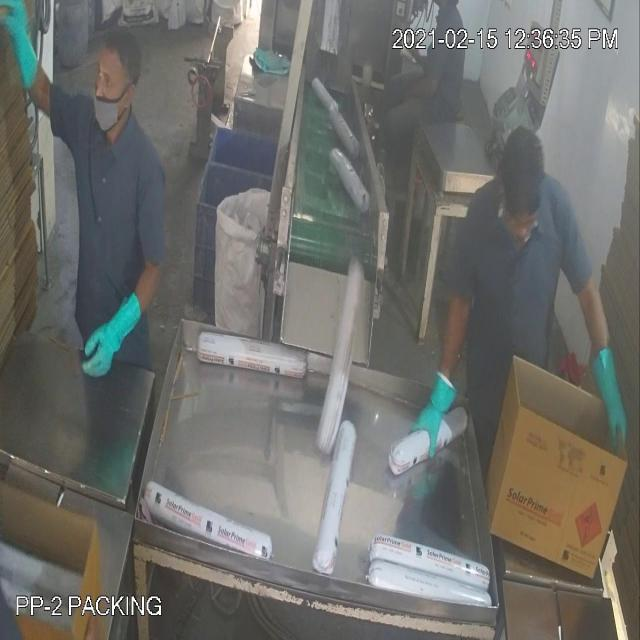gloves: (68, 283, 148, 392), (580, 326, 632, 458), (403, 358, 461, 468), (1, 1, 52, 109)
